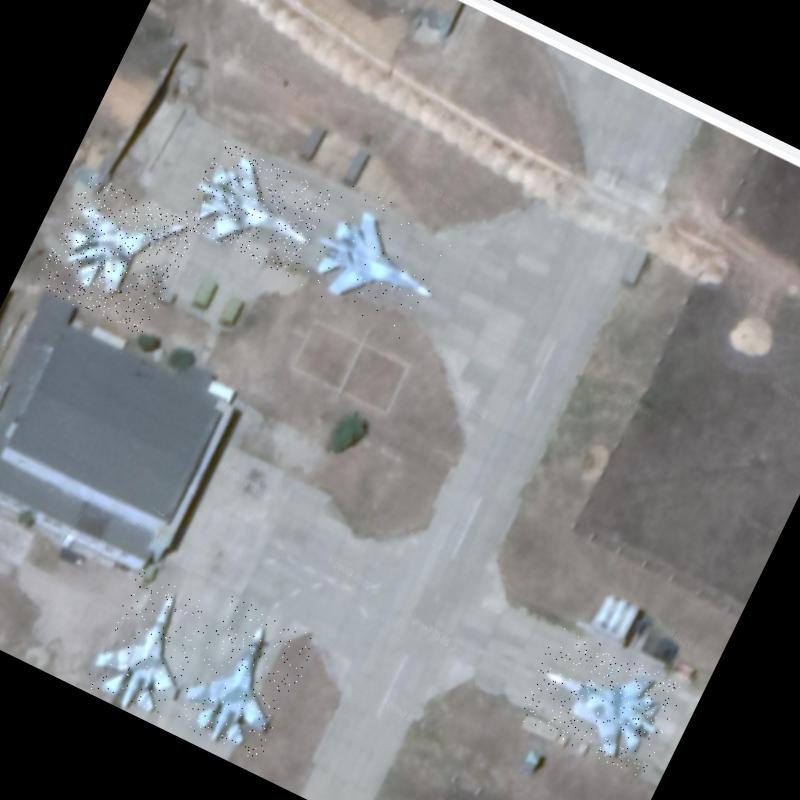A1: (292, 180, 464, 347), (33, 171, 198, 339), (514, 624, 686, 780), (170, 595, 320, 764), (179, 138, 333, 279), (83, 567, 217, 722)
